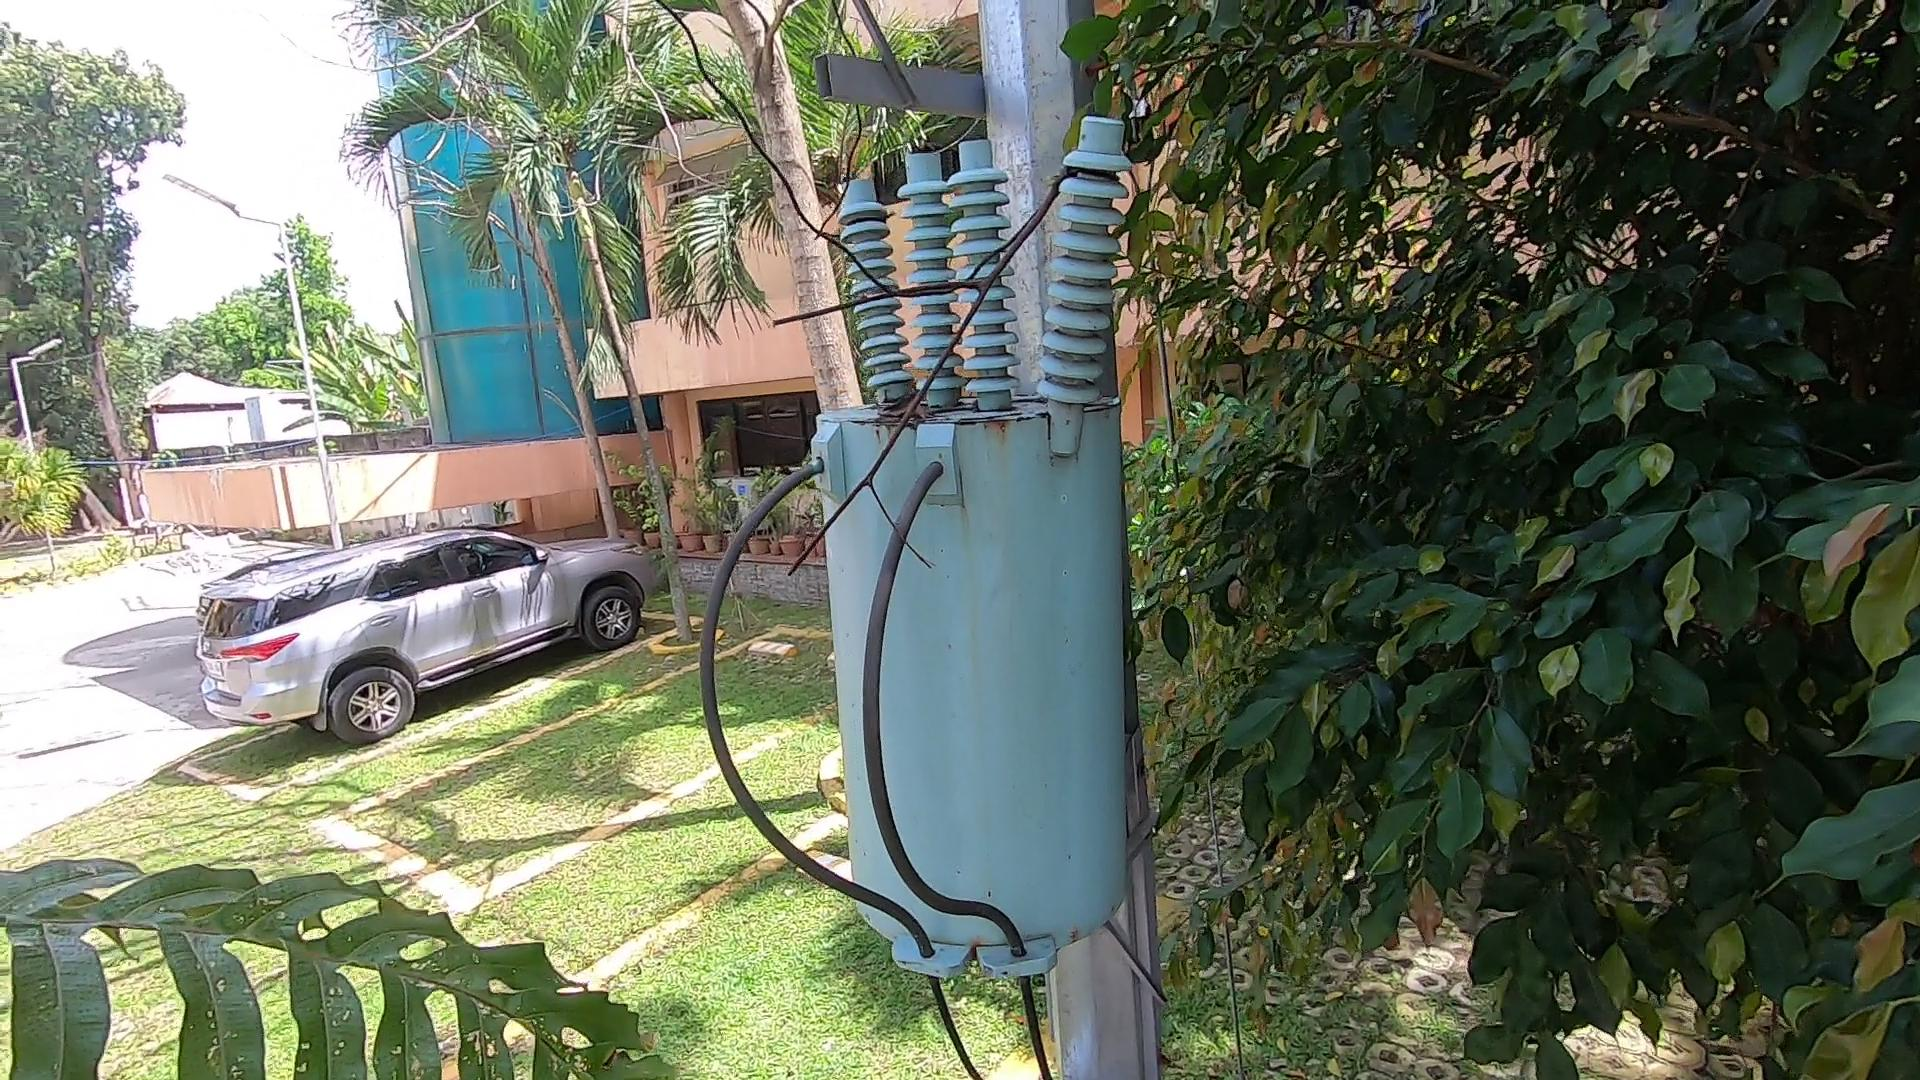leaf: (881, 384, 942, 433)
tree branch: (742, 153, 1102, 597)
